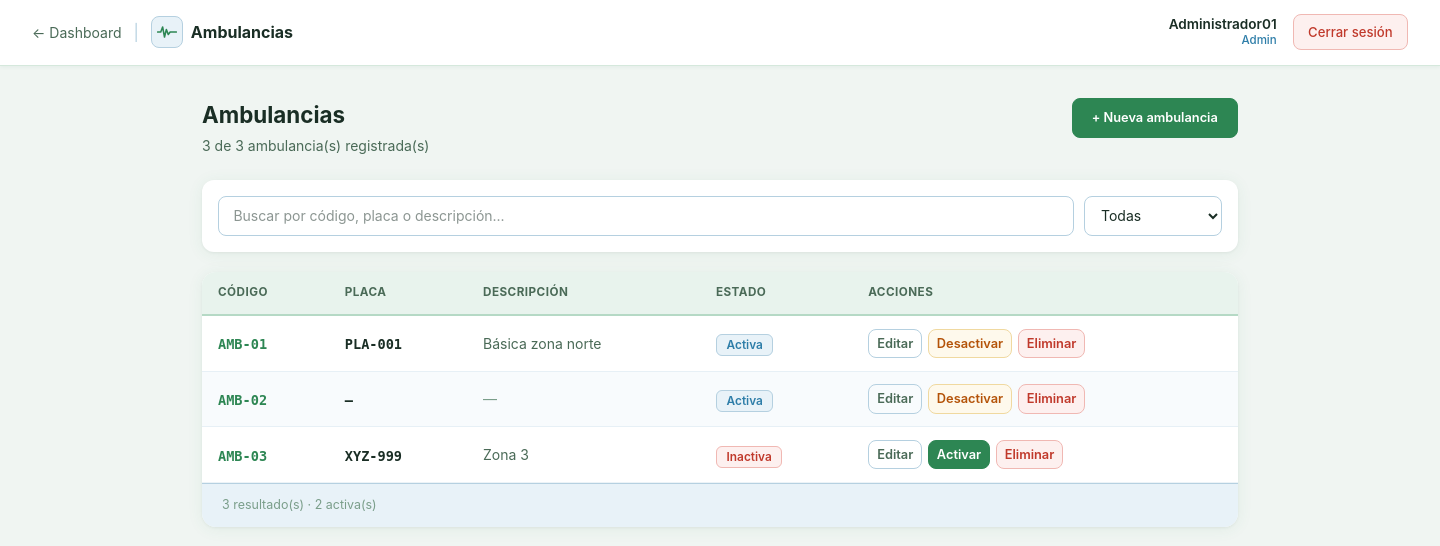
it: ambulancias/page.js · listado y filtros › busca por código sin distinguir mayúsculas
Expected: the text "AMB-01" is shown, x1=218 y1=336 x2=267 y2=352
Type "amb-02" into the field with placeholder "Buscar por código, placa o descripción..." at (646, 216), box x1=218 y1=196 x2=1074 y2=236
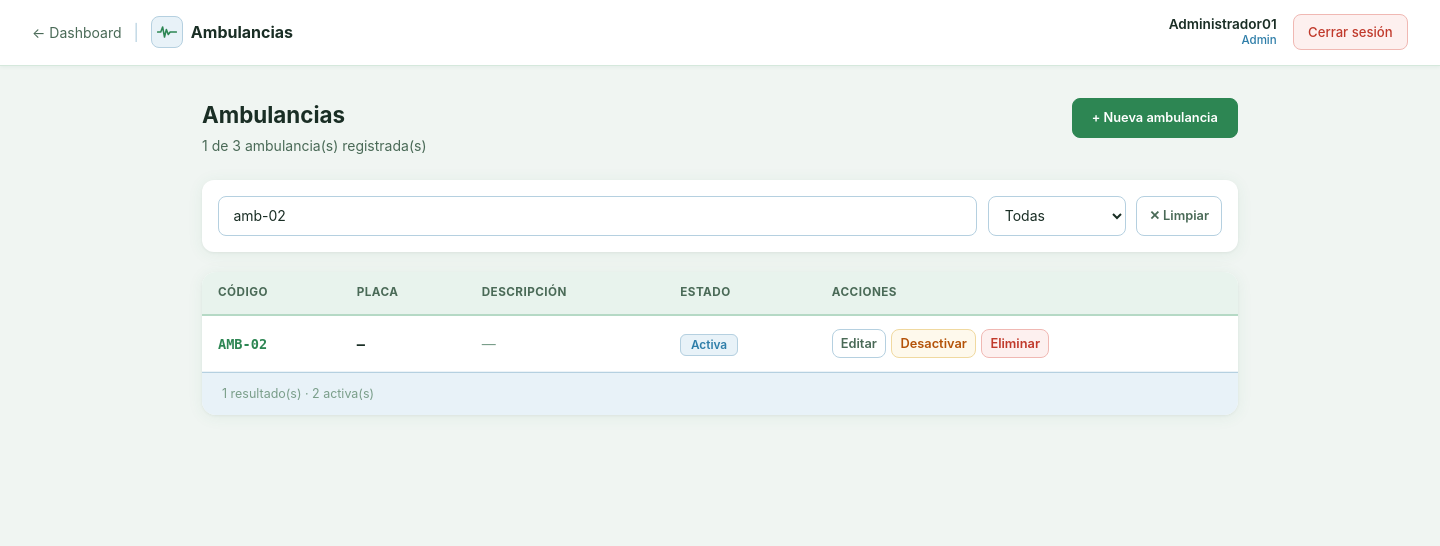
Expected: the text "AMB-02" is shown, x1=218 y1=336 x2=267 y2=352
Now the text "AMB-01" is gone
Now the text "AMB-03" is gone
